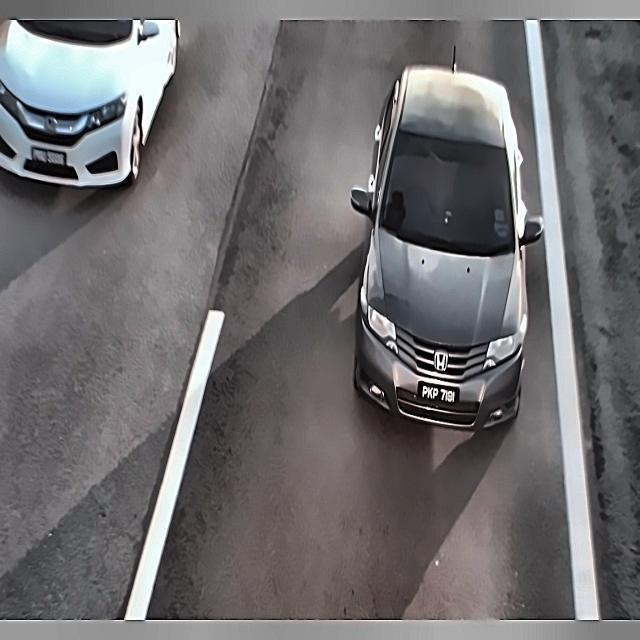car: (412, 372, 466, 418), (27, 138, 70, 179)
